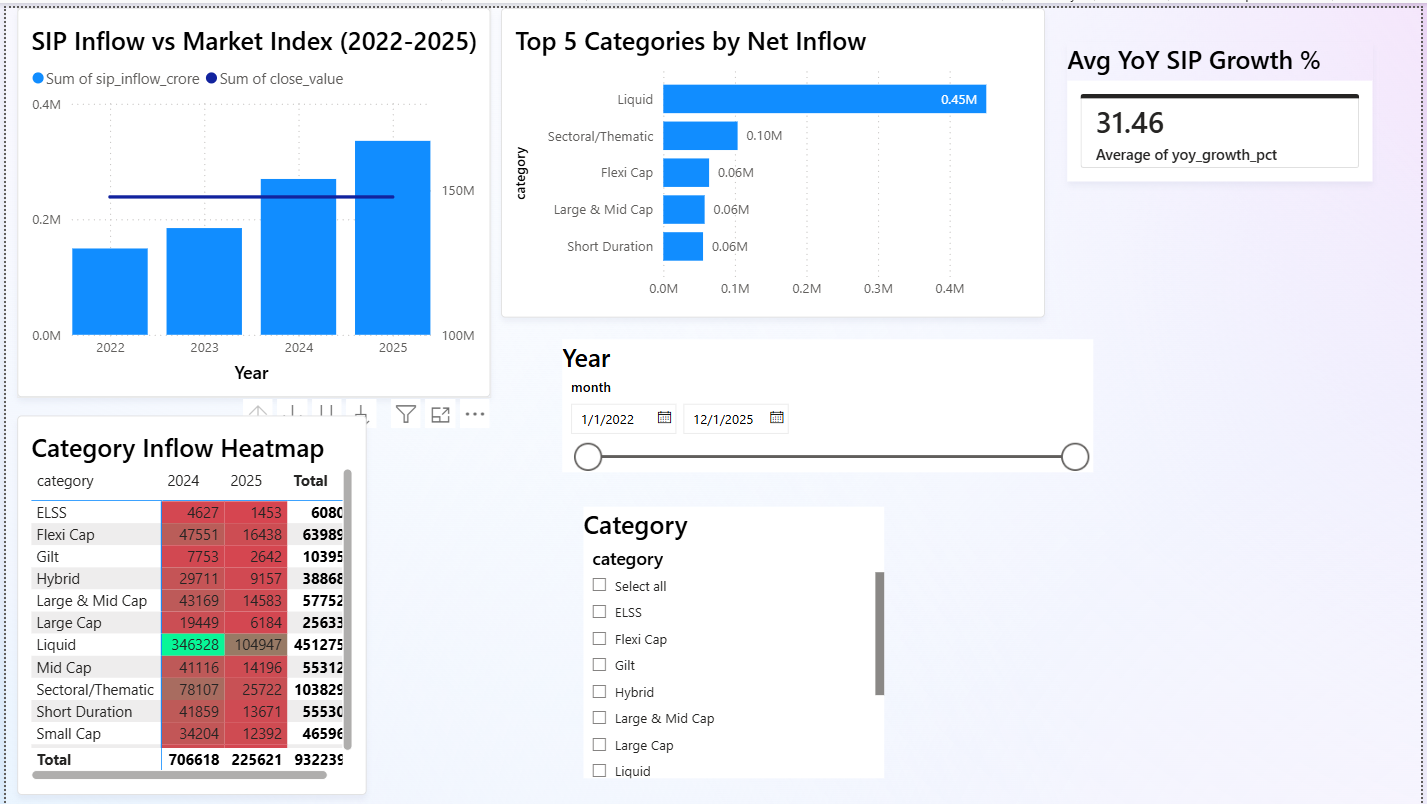

Layout of this report page (visuals, bound fields, positions):
{"tool":"powerbi","page":{"name":"SIP & Market Trends","canvas":[1280,720],"ordinal":3},"visuals":[{"type":"lineClusteredColumnComboChart","title":"SIP Inflow vs Market Index (2022-2025)","fields":{"Category":["clean_sip_inflows.month.Variation.Date Hierarchy.Year","clean_sip_inflows.month.Variation.Date Hierarchy.Quarter","clean_sip_inflows.month.Variation.Date Hierarchy.Month","clean_sip_inflows.month.Variation.Date Hierarchy.Day"],"Y":["Sum(clean_sip_inflows.sip_inflow_crore)"],"Y2":["Sum(clean_benchmark_indices.close_value)"]},"box":[10.5,0,427.9,352.3],"z":0},{"type":"pivotTable","title":"Category Inflow Heatmap","fields":{"Rows":["clean_category_inflows.category"],"Columns":["clean_category_inflows.month.Variation.Date Hierarchy.Year","clean_category_inflows.month.Variation.Date Hierarchy.Quarter","clean_category_inflows.month.Variation.Date Hierarchy.Month","clean_category_inflows.month.Variation.Date Hierarchy.Day"],"Values":["Sum(clean_category_inflows.net_inflow_crore)"]},"box":[10.5,368.6,316.3,343],"z":1000},{"type":"clusteredBarChart","title":"Top 5 Categories by Net Inflow ","fields":{"Category":["clean_category_inflows.category"],"Y":["Sum(clean_category_inflows.net_inflow_crore)"]},"box":[447.7,0,491.9,280.2],"z":2000},{"type":"cardVisual","title":"Avg YoY SIP Growth %","fields":{"Data":["Avg(clean_sip_inflows.yoy_growth_pct)"]},"box":[960.5,30.2,276.7,126.7],"z":3000},{"type":"slicer","title":"Year","fields":{"Values":["clean_sip_inflows.month"]},"box":[503.5,300,480.2,119.8],"z":4000},{"type":"slicer","title":"Category","fields":{"Values":["clean_category_inflows.category"]},"box":[522.1,451.2,272.1,245.3],"z":5000}]}

Visuals, with their boxes in screenshot pixels (x1, y1, x2, y2), scaled from the page's 1280x720 canvas onto the 1427x804 screenshot:
"SIP Inflow vs Market Index (2022-2025)" lineClusteredColumnComboChart: l=12, t=0, r=489, b=393
"Category Inflow Heatmap" pivotTable: l=12, t=412, r=364, b=795
"Top 5 Categories by Net Inflow " clusteredBarChart: l=499, t=0, r=1048, b=313
"Avg YoY SIP Growth %" cardVisual: l=1071, t=34, r=1379, b=175
"Year" slicer: l=561, t=335, r=1097, b=469
"Category" slicer: l=582, t=504, r=885, b=778
